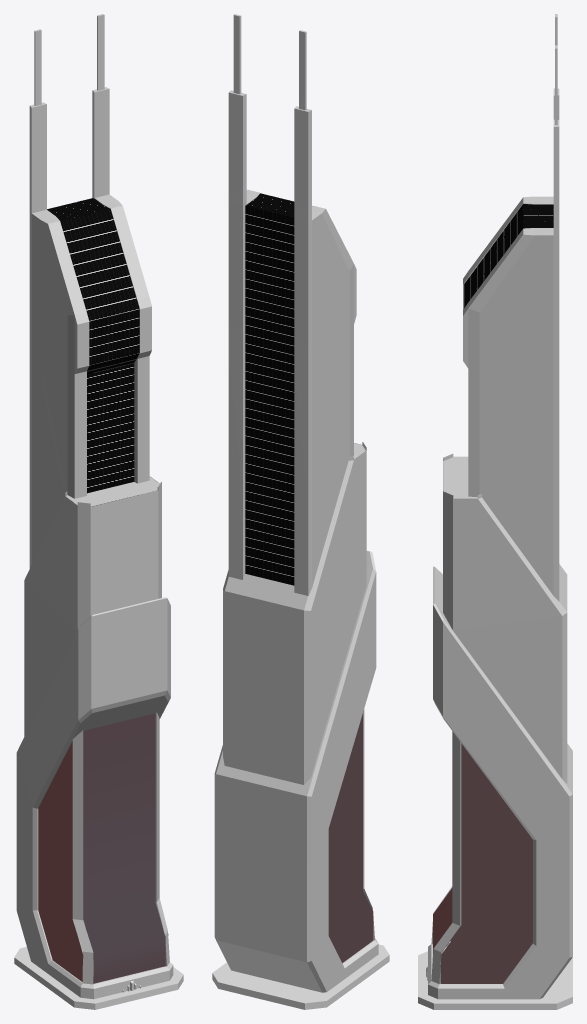
3 renders of one model, left to right at view 1: azimuth 30°, elevation 25°; view 2: azimuth 150°, elevation 25°; view 3: azimuth 270°, elevation 25°, orthographic. The views are drawn at different scales.
Visible parts, largest first — view 1: model_0.001, model_1.003, model_72, model_1.001, model_66, model_68; view 2: model_1.003, model_0.001, model_1.001, model_66, model_72, model_68; view 3: model_1.003, model_0.001, model_1.001, model_72, model_68, model_66.
Part boxes in pixels (left/top/right/bottom): model_0.001: left=16, top=597, right=173, bottom=999; model_1.003: left=29, top=14, right=151, bottom=568; model_72: left=38, top=713, right=168, bottom=983; model_1.001: left=24, top=476, right=161, bottom=736; model_66: left=47, top=198, right=139, bottom=506; model_68: left=14, top=946, right=183, bottom=1009; model_1.003: left=228, top=14, right=356, bottom=595; model_0.001: left=214, top=551, right=378, bottom=992; model_1.001: left=223, top=442, right=366, bottom=784; model_66: left=245, top=193, right=294, bottom=585; model_72: left=328, top=713, right=373, bottom=962; model_68: left=212, top=944, right=389, bottom=1009; model_1.003: left=463, top=14, right=559, bottom=601; model_0.001: left=426, top=566, right=572, bottom=999; model_1.001: left=443, top=453, right=567, bottom=783; model_72: left=433, top=743, right=532, bottom=983; model_68: left=418, top=951, right=572, bottom=1009; model_66: left=463, top=204, right=553, bottom=308.
Size of the model in its own units: 288 by 2326 by 343.
Materials: 3 (1 with a texture image).
